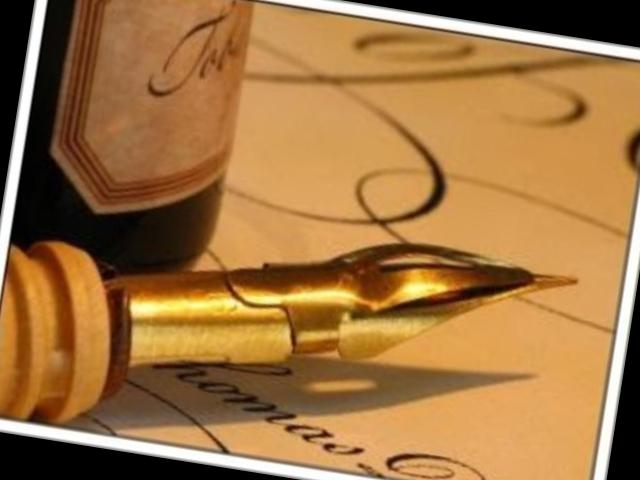PEN: (0, 228, 587, 454)
